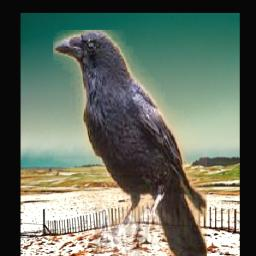Crow: (53, 30, 207, 256)
